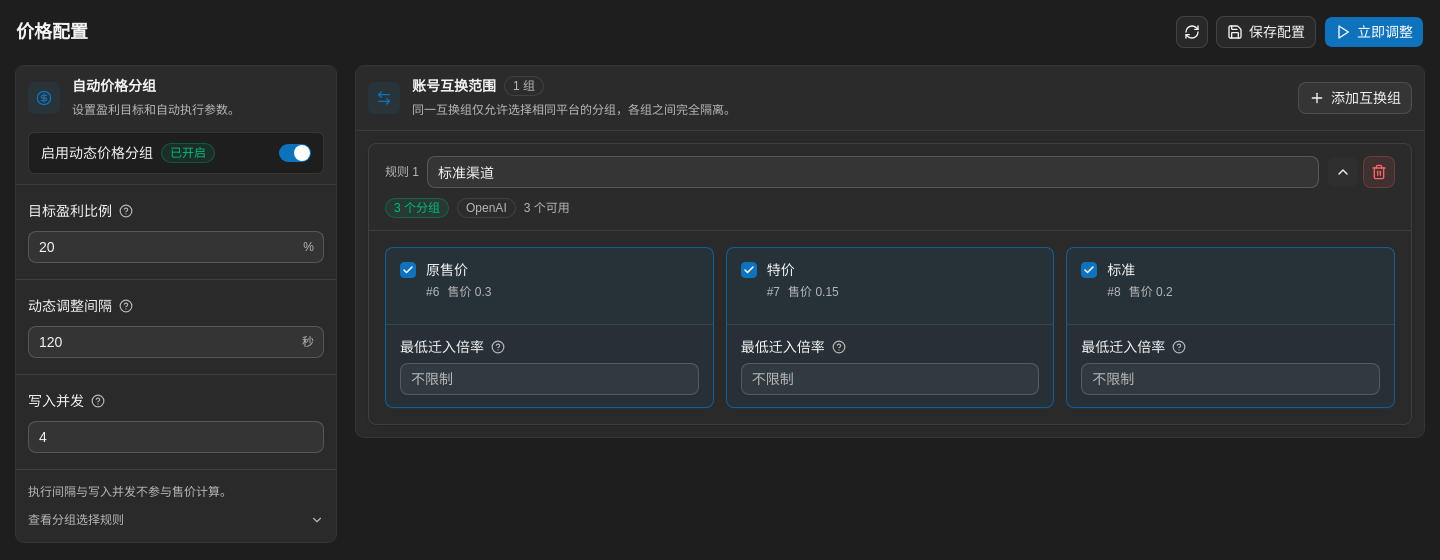
Test: 最低迁入倍率设置 › 输入负倍率时显示字段错误并禁止保存和立即调整
Type "-1" into the field named "分组 特价 最低迁入倍率".
click(890, 379); type("-1")  # box [741, 363, 1039, 395]
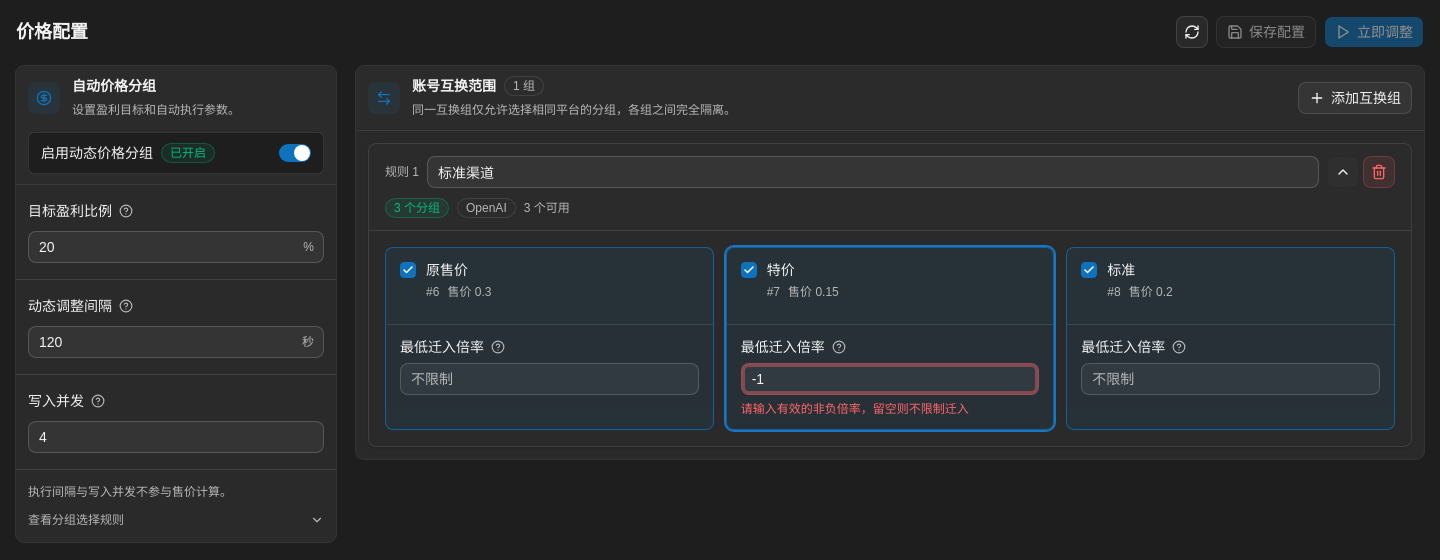
expect the message shows "请输入有效的非负倍率": met, box [741, 402, 969, 416]
expect the button "保存配置" is disabled: met, box [1216, 16, 1316, 48]
expect the button "立即调整" is disabled: met, box [1324, 16, 1424, 48]
